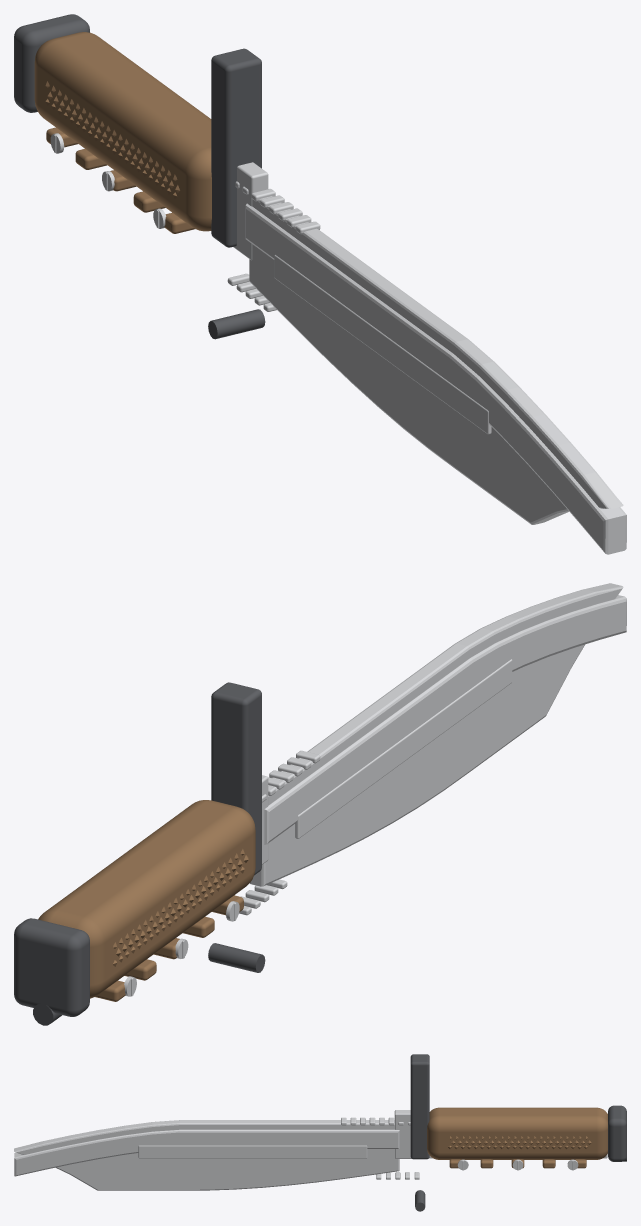
File: bowie-knife.glb
The picture shows the model from 3 angles, top to bottom: view 1: azimuth 30°, elevation 25°; view 2: azimuth 150°, elevation 25°; view 3: azimuth 270°, elevation 25°; orthographic projection. The views are drawn at different scales.
Parts seen in each view (by area): view 1: bowie-knife; view 2: bowie-knife; view 3: bowie-knife.
Part boxes in pixels (bbox=[...]): bowie-knife: bbox=[14, 14, 626, 554]; bowie-knife: bbox=[14, 583, 626, 1025]; bowie-knife: bbox=[14, 1054, 626, 1211].
Size of the model in its own units: 0.0304 by 0.1022 by 0.3854.
